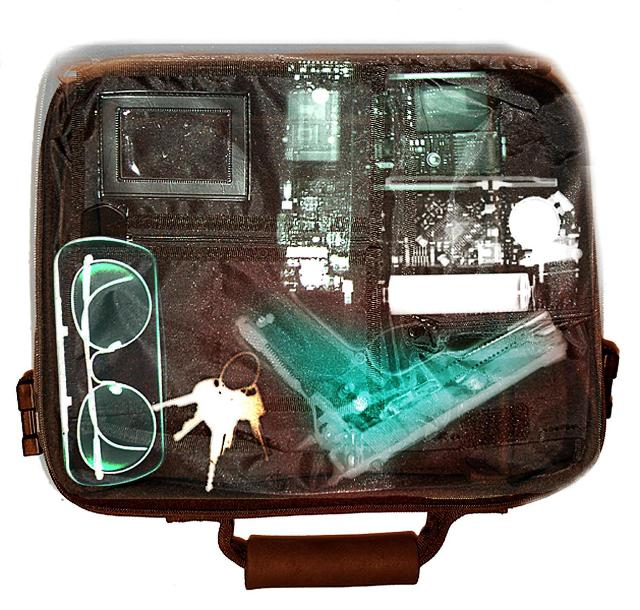Gun: (232, 284, 570, 479)
